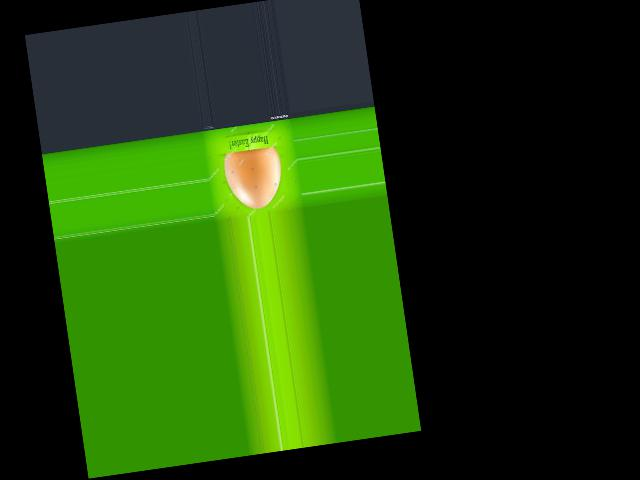egg: (221, 146, 285, 212)
